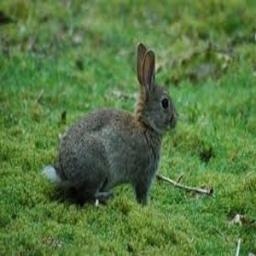rabbit: (42, 43, 177, 203)
